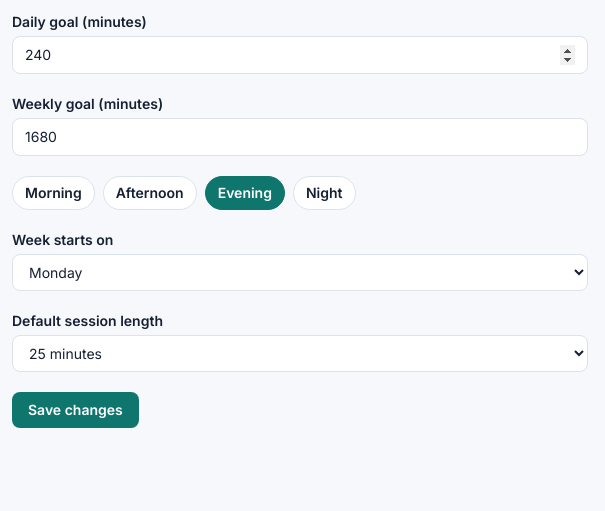
Scenario: StudyPrefsForm › PUTs study preferences
Replace the text in the number field labelled "Daily goal (minutes)" with "180" at (300, 55), box [12,36,588,74]
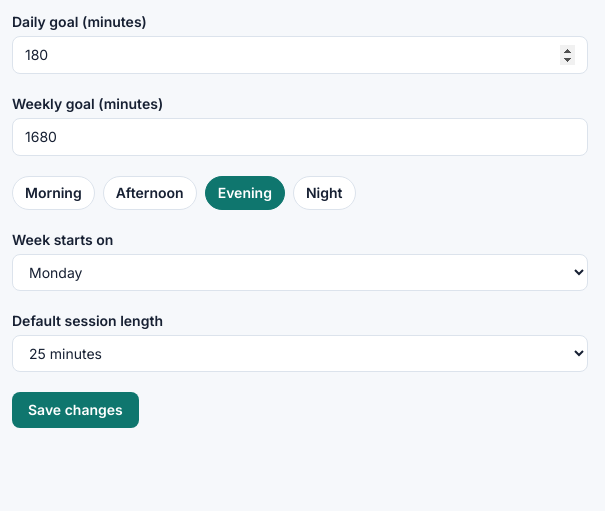
Click the button "Morning".
click(53, 193)  # box [12,176,95,210]
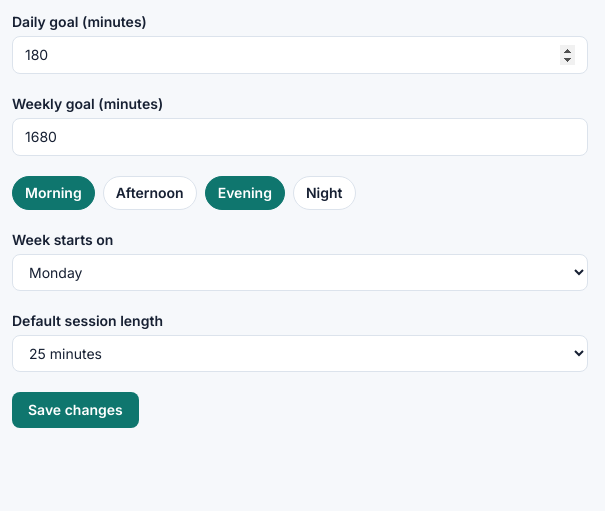
Select "Sunday" in the dropdown labelled "Week starts on" at (300, 272), box [12,254,588,291]
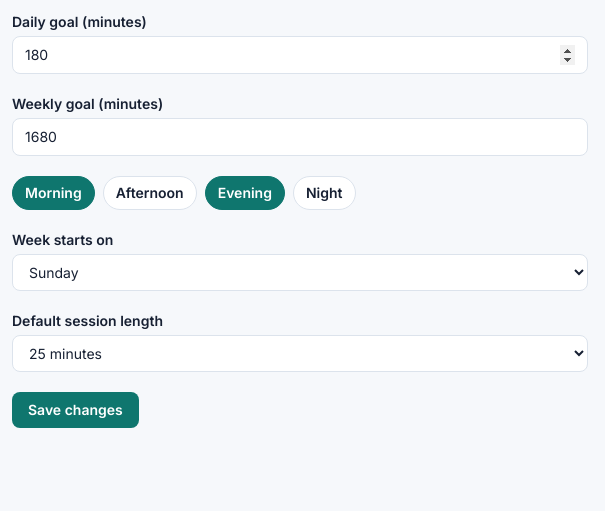
Select "45 minutes" in the dropdown labelled "Default session length" at (300, 354), box [12,335,588,372]
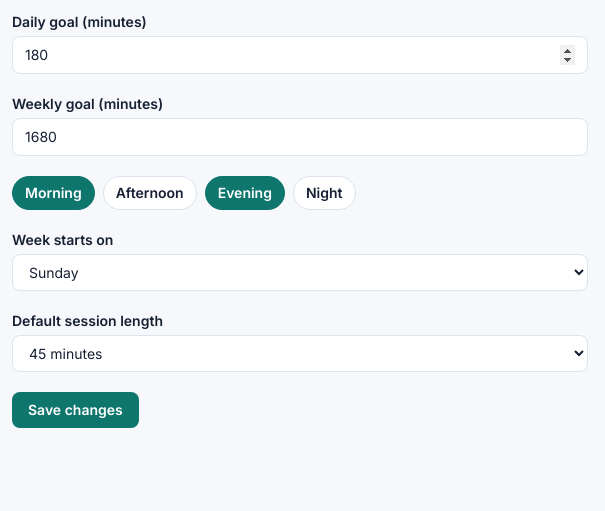
Click the button "Save changes".
click(75, 410)  # box [12,392,139,428]
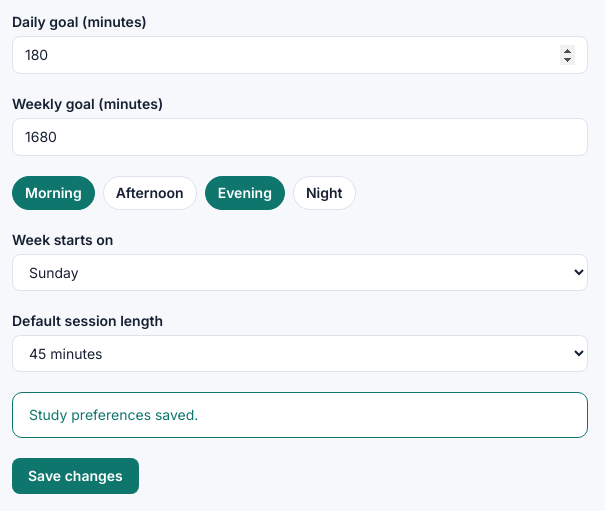
Check: the message shows "saved", box [29,406,198,423]
